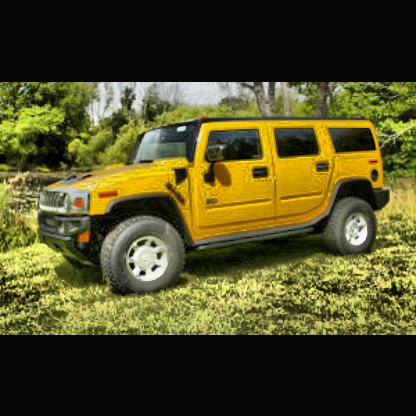AM General Hummer SUV 2000: (37, 117, 393, 300)
